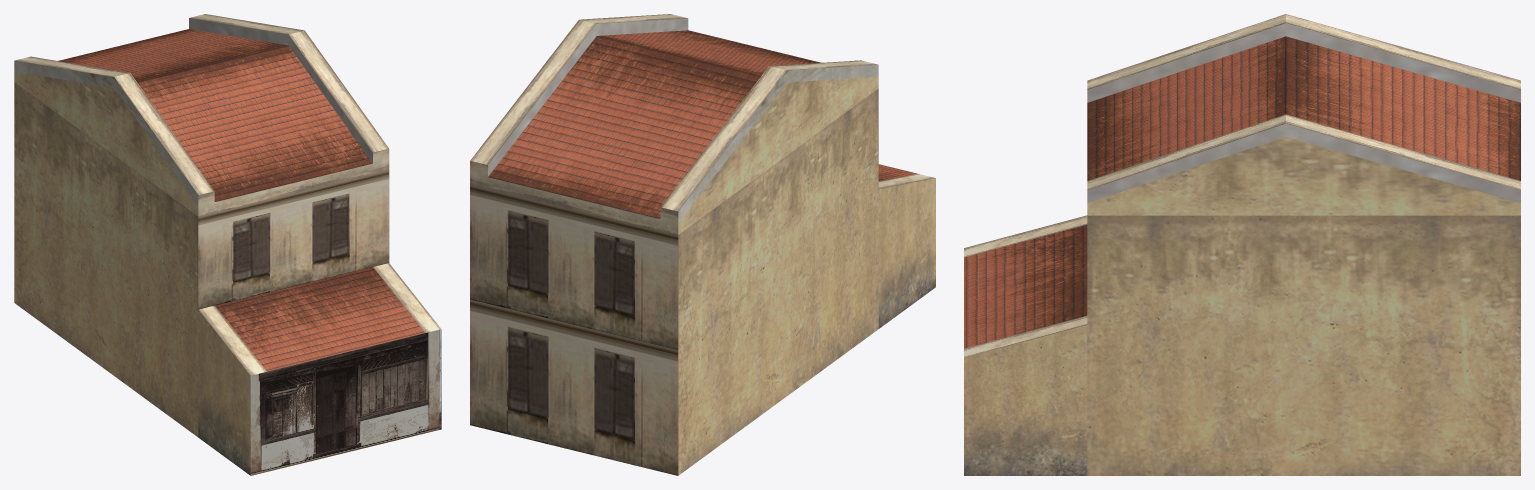
The model's file is SM_Building_Large_04.fbx.
The picture shows the model from 3 angles, left to right: view 1: azimuth 30°, elevation 25°; view 2: azimuth 150°, elevation 25°; view 3: azimuth 270°, elevation 25°; orthographic projection. The views are drawn at different scales.
Visible parts, largest first — view 1: SM_Building_Large_04; view 2: SM_Building_Large_04; view 3: SM_Building_Large_04.
Boxes of the visible parts, <box> form: SM_Building_Large_04: <box>14,14,441,475</box>; SM_Building_Large_04: <box>470,14,935,475</box>; SM_Building_Large_04: <box>964,14,1520,475</box>.
Size of the model in its own units: 5.97 by 8.95 by 12.82.
